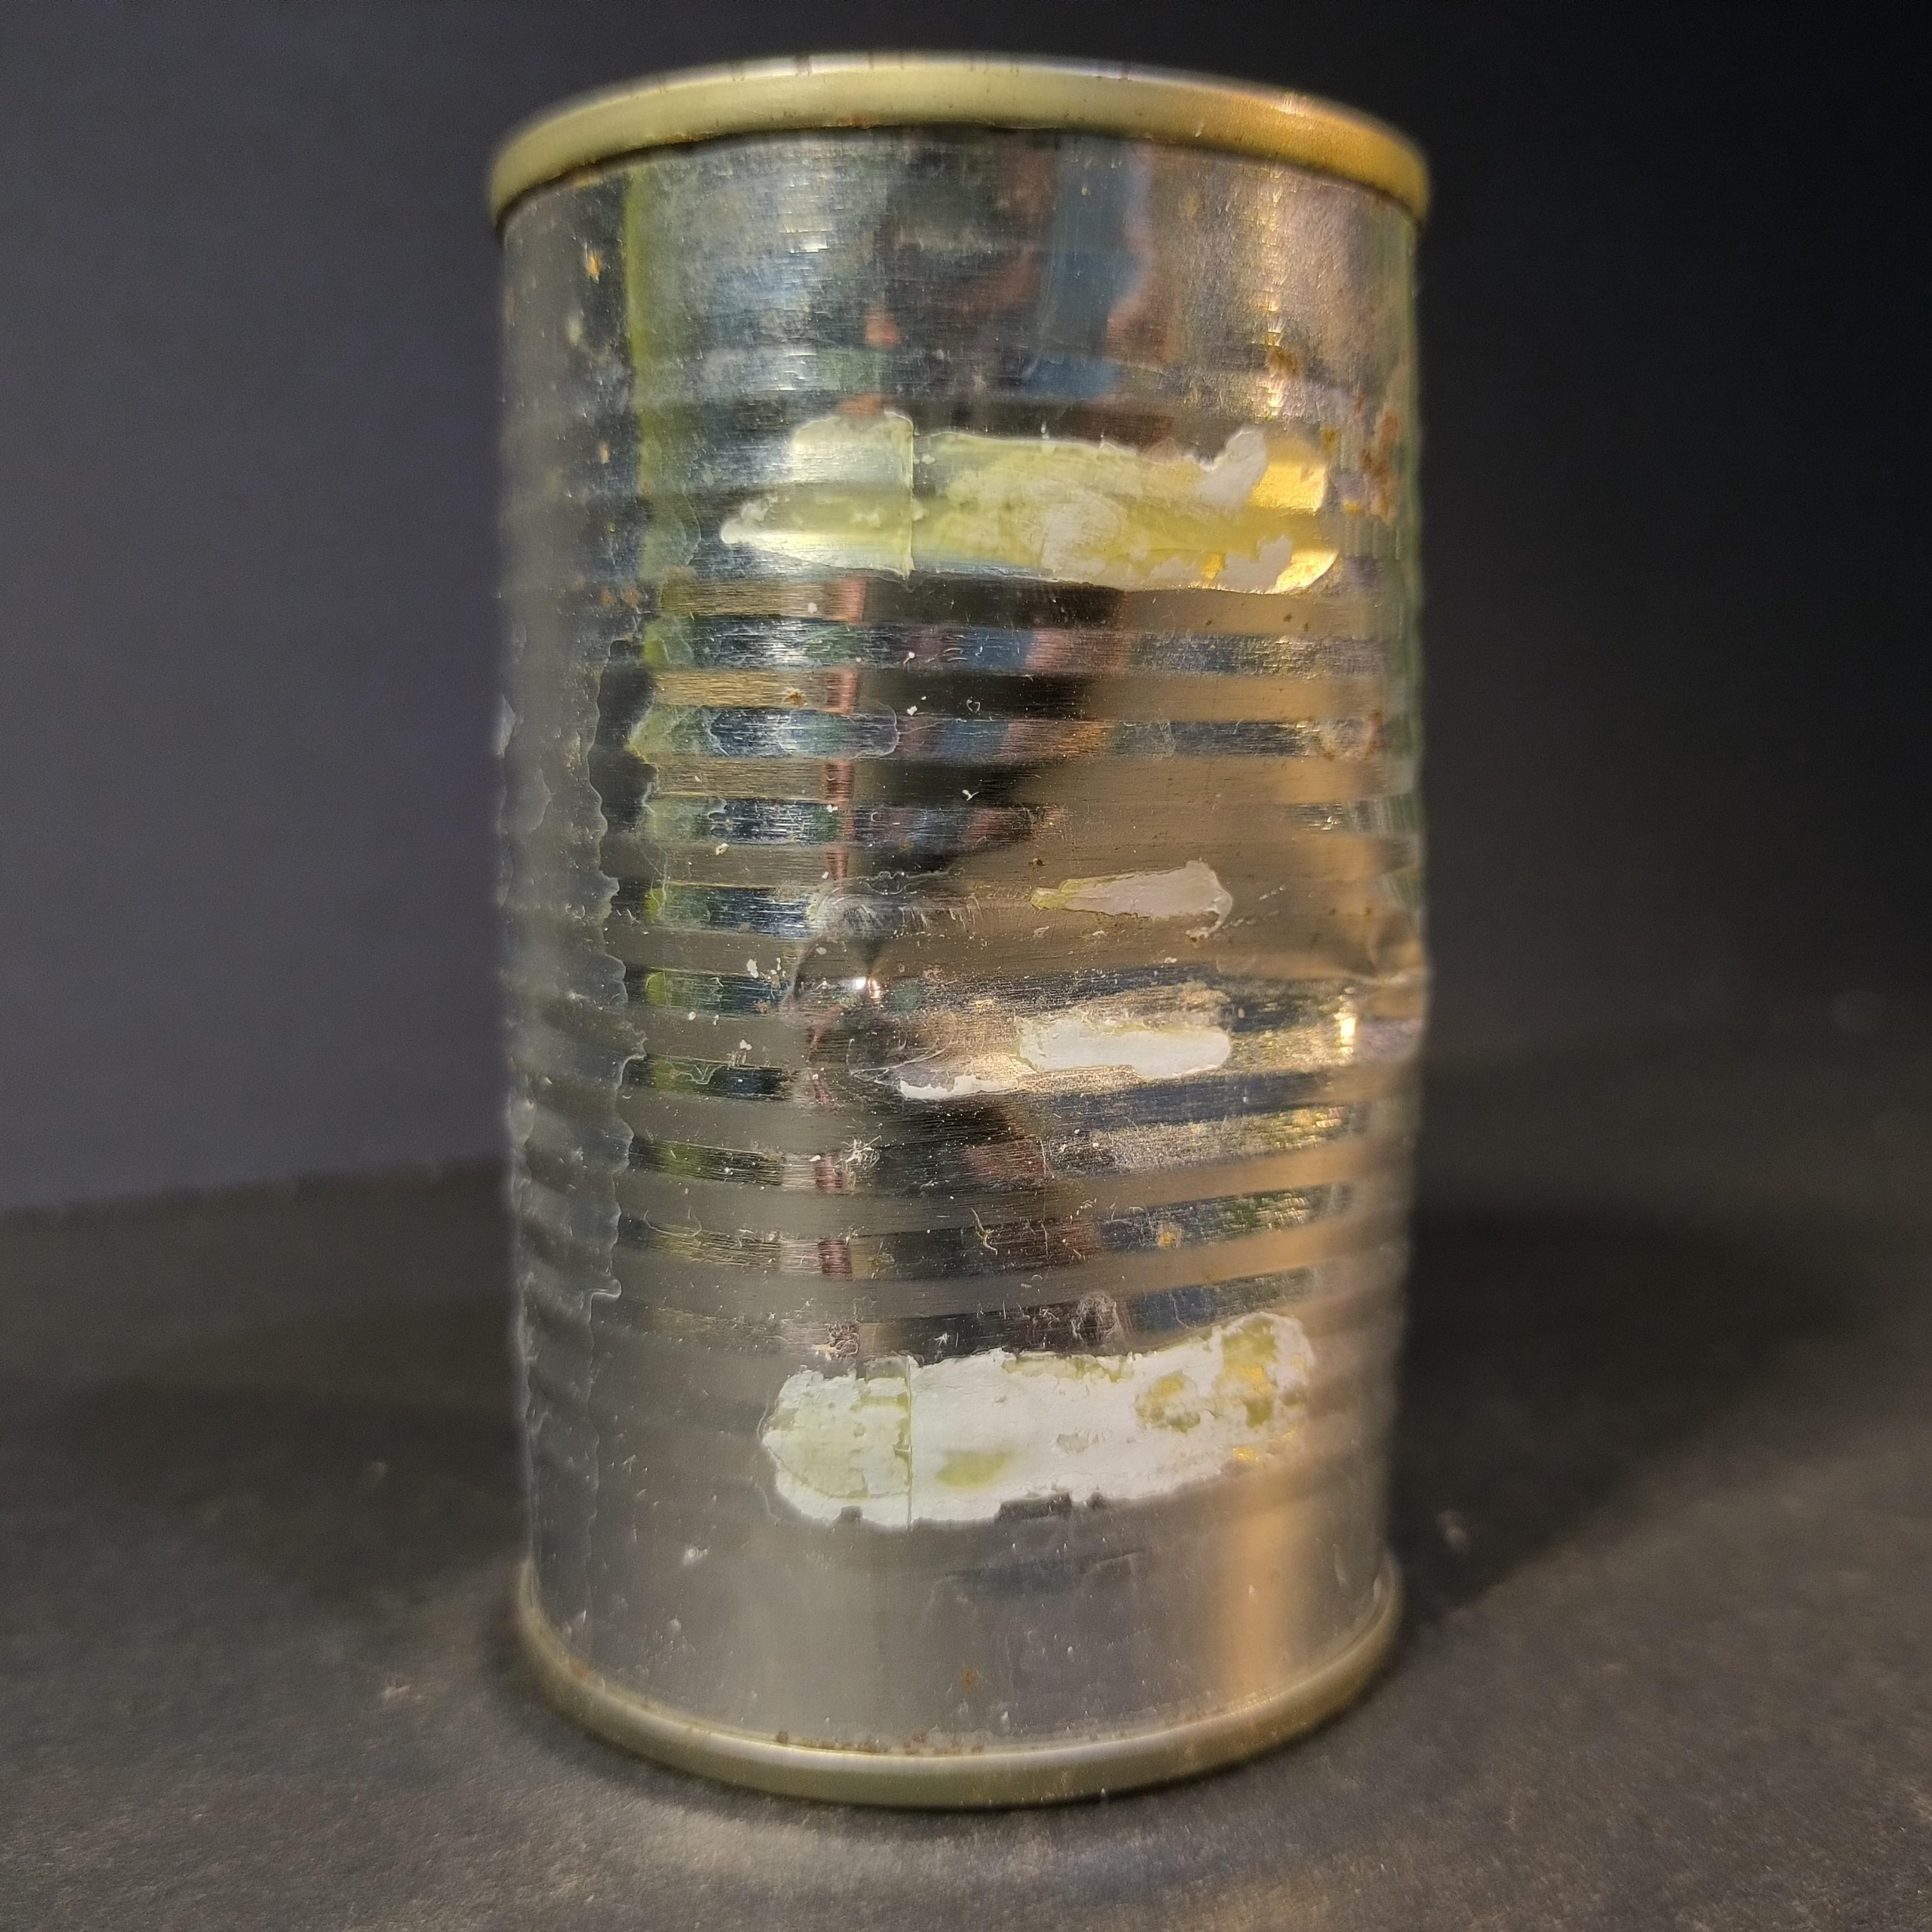Dented: (472, 34, 1467, 1817)
